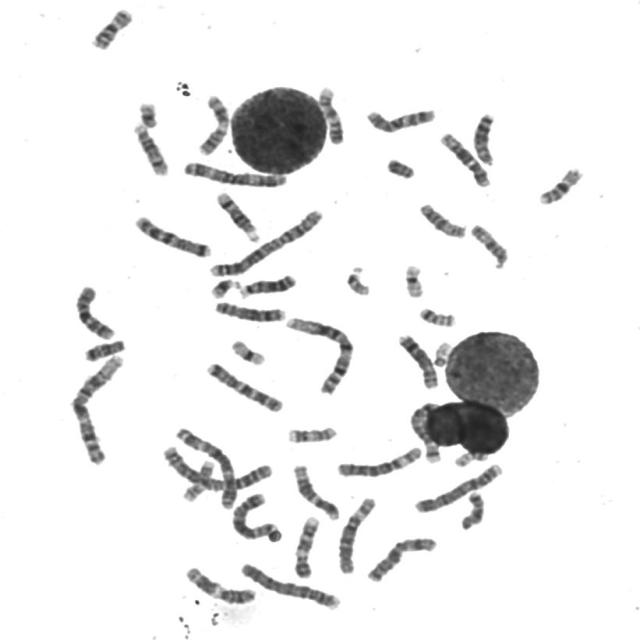A1: (66, 348, 127, 466), (280, 310, 357, 396)
A2: (204, 204, 326, 278), (158, 440, 274, 492)
A3: (172, 422, 242, 507), (179, 156, 290, 188)
B4: (235, 557, 344, 612), (409, 458, 505, 514)
B5: (227, 487, 282, 541), (406, 402, 445, 462)
C10: (69, 280, 117, 342), (361, 103, 439, 134)
C11: (180, 562, 259, 605), (194, 89, 232, 157)
C12: (436, 127, 492, 189), (288, 459, 342, 522)
C6: (333, 492, 379, 575), (331, 441, 425, 479)
C7: (201, 357, 286, 413), (130, 210, 213, 259)
C8: (393, 329, 440, 390), (209, 296, 288, 323)
C9: (288, 512, 322, 579), (313, 81, 346, 146)
D13: (234, 269, 298, 299), (468, 108, 498, 167)
D14: (211, 186, 262, 243), (128, 118, 171, 176)
D15: (466, 219, 511, 270), (414, 198, 468, 240)
E16: (86, 3, 135, 50), (534, 162, 585, 206)
E17: (178, 456, 218, 502), (282, 420, 340, 444)
E18: (79, 334, 128, 363), (455, 487, 487, 531)
F19: (226, 334, 268, 366), (398, 259, 426, 299)
F20: (414, 302, 458, 328), (450, 449, 496, 468)
G21: (205, 274, 242, 300), (133, 96, 161, 128)
G22: (342, 263, 372, 297), (429, 336, 453, 369)
X: (362, 532, 439, 584)
Y: (381, 153, 417, 180)
